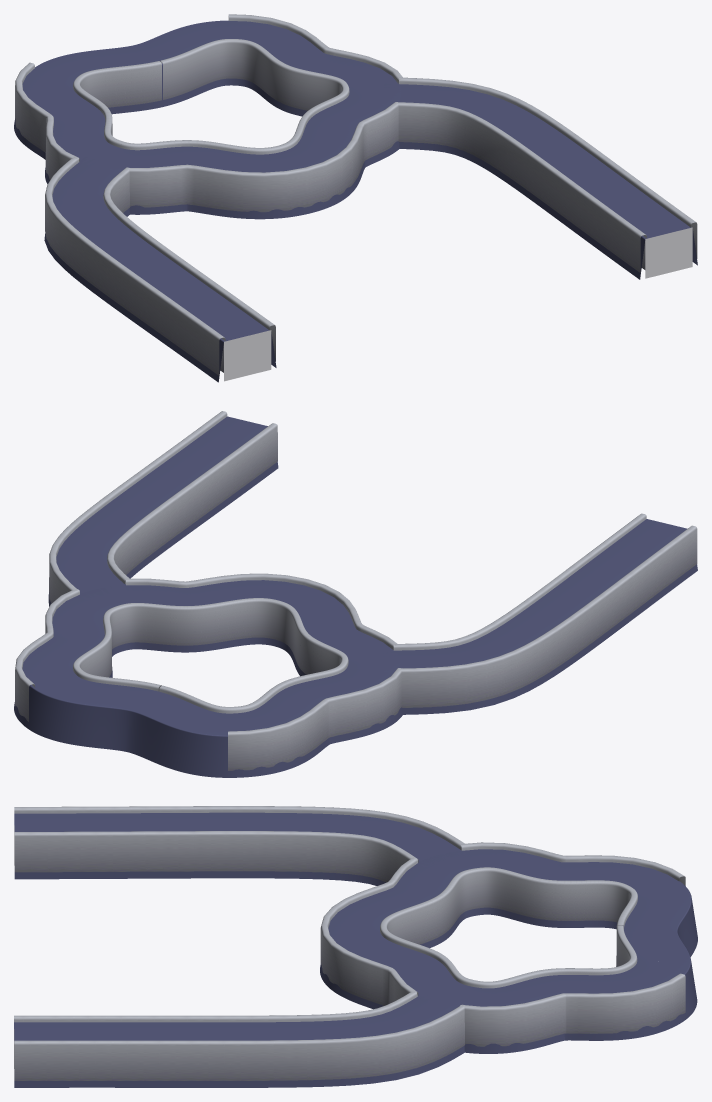
The model's file is NewFlower.fbx.
The picture shows the model from 3 angles, top to bottom: view 1: azimuth 30°, elevation 25°; view 2: azimuth 150°, elevation 25°; view 3: azimuth 270°, elevation 25°; orthographic projection.
Parts seen in each view (by area): view 1: Circle__1_, Path, Path__1_; view 2: Circle__1_, Path__1_, Path; view 3: Circle__1_, Path, Path__1_.
Boxes of the visible parts, box(x1,y1,x2,y2) form: Circle__1_: box(14, 14, 403, 219); Path: box(381, 77, 697, 279); Path__1_: box(44, 156, 276, 382); Circle__1_: box(14, 573, 402, 777); Path__1_: box(382, 513, 697, 714); Path: box(48, 411, 278, 606); Circle__1_: box(320, 842, 697, 1053); Path: box(14, 992, 469, 1087); Path__1_: box(14, 806, 469, 885).
Size of the model in its own units: 2288 by 200 by 2774.
